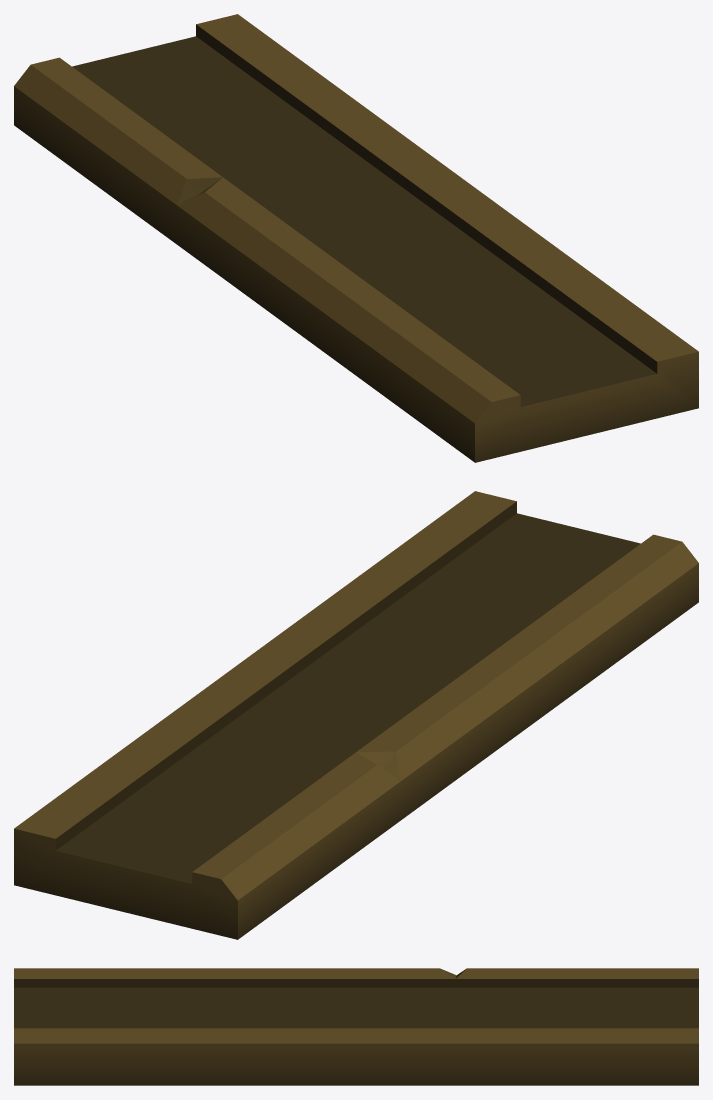
Rendered from ENV_RTS_Ruins_Wall_Base_01.fbx.
3 renders of one model, top to bottom at view 1: azimuth 30°, elevation 25°; view 2: azimuth 150°, elevation 25°; view 3: azimuth 270°, elevation 25°, orthographic. The views are drawn at different scales.
Visible parts, largest first — view 1: ENV_RTS_Ruins_Wall_Base_01; view 2: ENV_RTS_Ruins_Wall_Base_01; view 3: ENV_RTS_Ruins_Wall_Base_01.
Boxes of the visible parts, x1,y1,x2,y2 form: ENV_RTS_Ruins_Wall_Base_01: (14, 14, 698, 462); ENV_RTS_Ruins_Wall_Base_01: (14, 491, 698, 939); ENV_RTS_Ruins_Wall_Base_01: (14, 968, 698, 1085).
Size of the model in its own units: 159 by 38.48 by 568.
